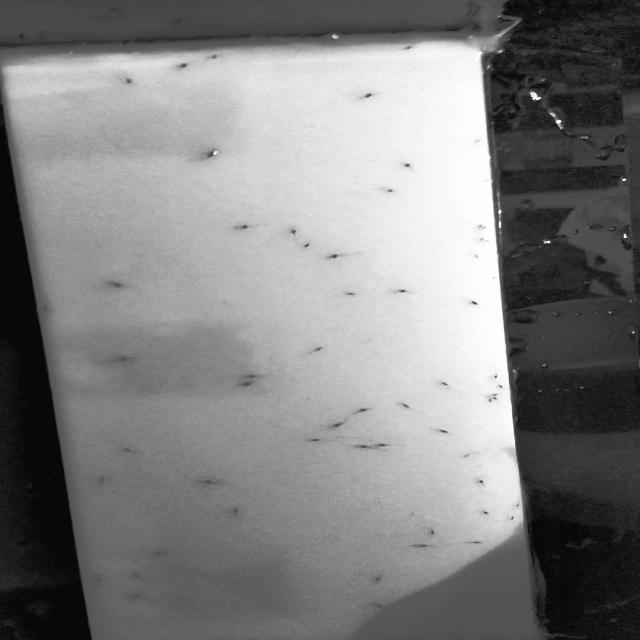shrimp: (396, 288, 432, 300), (197, 145, 224, 161), (319, 250, 371, 258), (348, 286, 374, 301), (460, 294, 482, 310), (422, 524, 446, 536), (344, 406, 371, 416), (477, 477, 496, 491), (94, 577, 120, 587), (326, 417, 346, 430), (464, 539, 489, 549), (342, 444, 373, 452), (399, 403, 423, 413), (305, 346, 329, 356), (105, 280, 127, 290), (369, 184, 396, 192), (120, 77, 147, 85), (410, 540, 436, 548), (438, 427, 461, 436), (396, 160, 416, 170), (367, 442, 395, 449), (440, 379, 461, 388), (114, 356, 132, 366), (238, 220, 256, 230), (458, 451, 483, 458), (129, 594, 149, 602), (298, 242, 320, 249), (517, 599, 534, 608), (123, 446, 142, 454), (491, 396, 506, 406), (288, 229, 303, 239), (181, 54, 191, 69), (201, 477, 222, 484), (374, 602, 390, 611), (310, 438, 328, 446), (404, 42, 421, 50), (130, 574, 146, 582), (230, 507, 246, 515), (480, 510, 498, 517), (180, 598, 195, 606), (94, 474, 106, 484), (489, 382, 508, 388), (484, 394, 500, 401), (208, 53, 226, 59), (372, 575, 387, 582), (152, 548, 165, 556), (356, 93, 376, 98), (506, 513, 518, 520), (485, 398, 497, 405), (244, 373, 263, 377), (39, 308, 51, 314), (244, 382, 255, 388), (490, 374, 499, 378)
